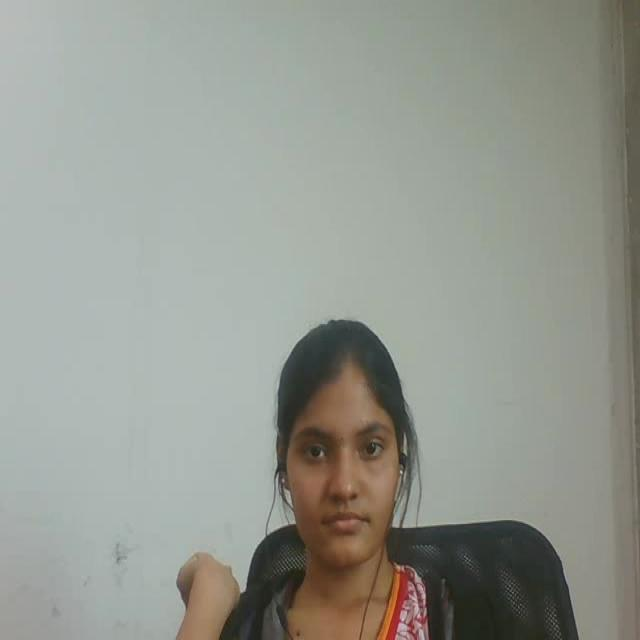Engaged: (246, 309, 432, 580)
